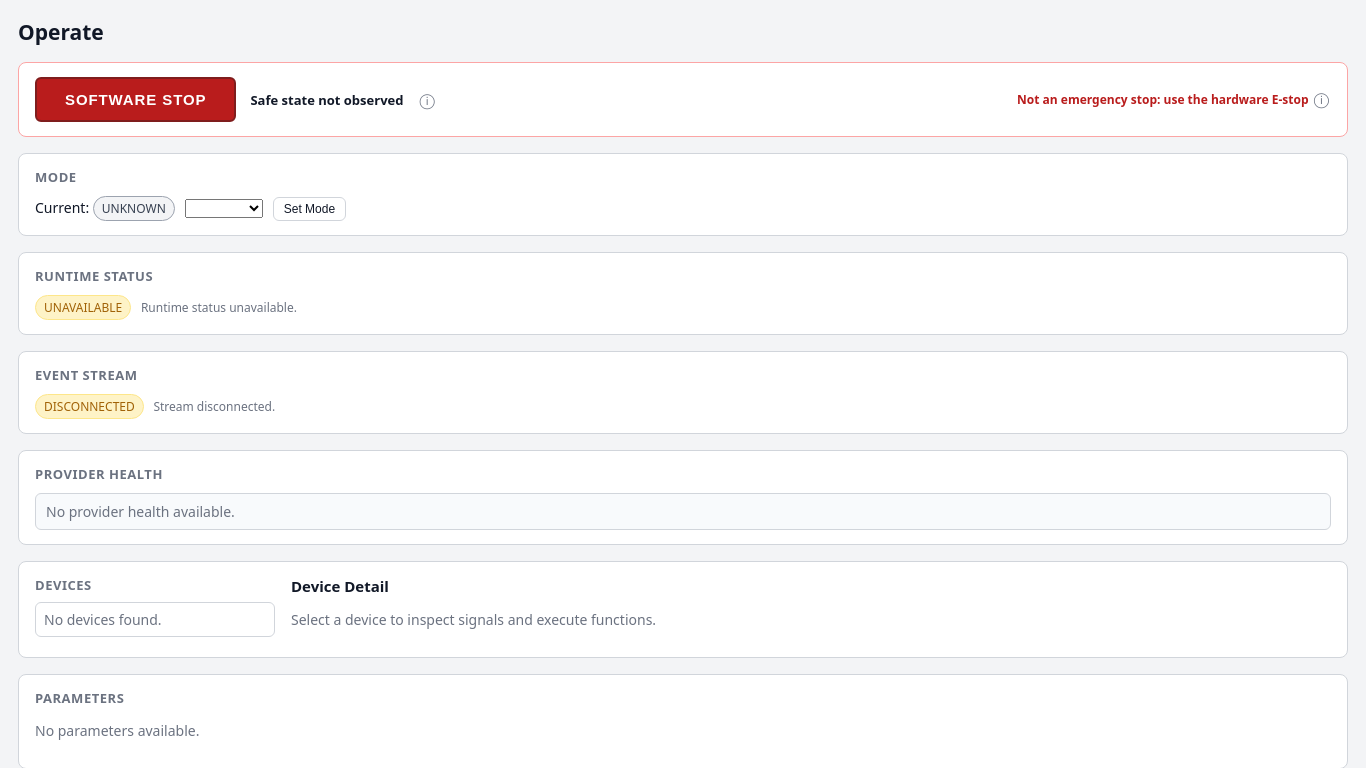
Test: Operate.svelte — the software stop card is one row (#613) › when the runtime never reports it: says not observed, and names the file behind the ⓘ
Expected: the text with test id "estop-state" reads "Safe state not observed", [250,90,403,108]
Click the button named "About the software stop".
click(427, 100)  # box [418,92,437,107]
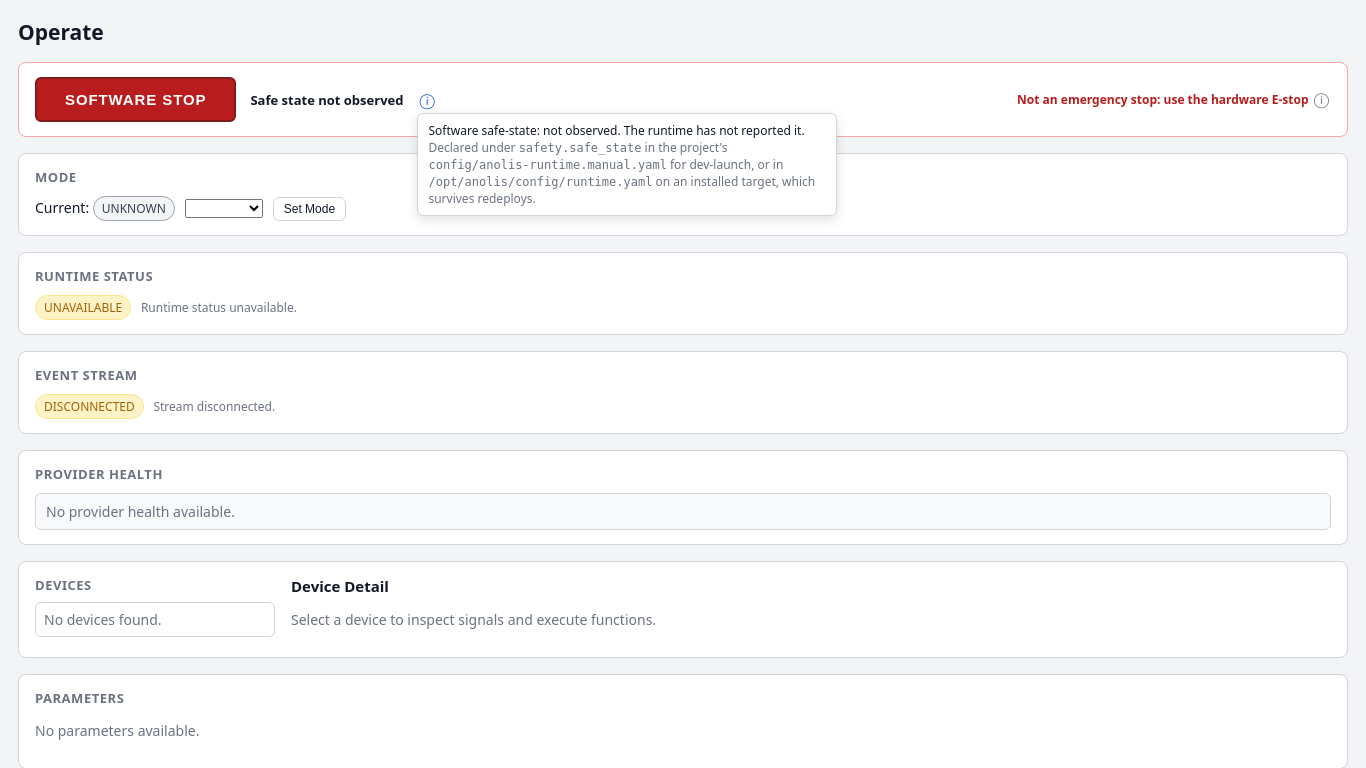
Expected: the element with test id "safe-state-fix" shows "safety.safe_state", [519,141,641,155]
